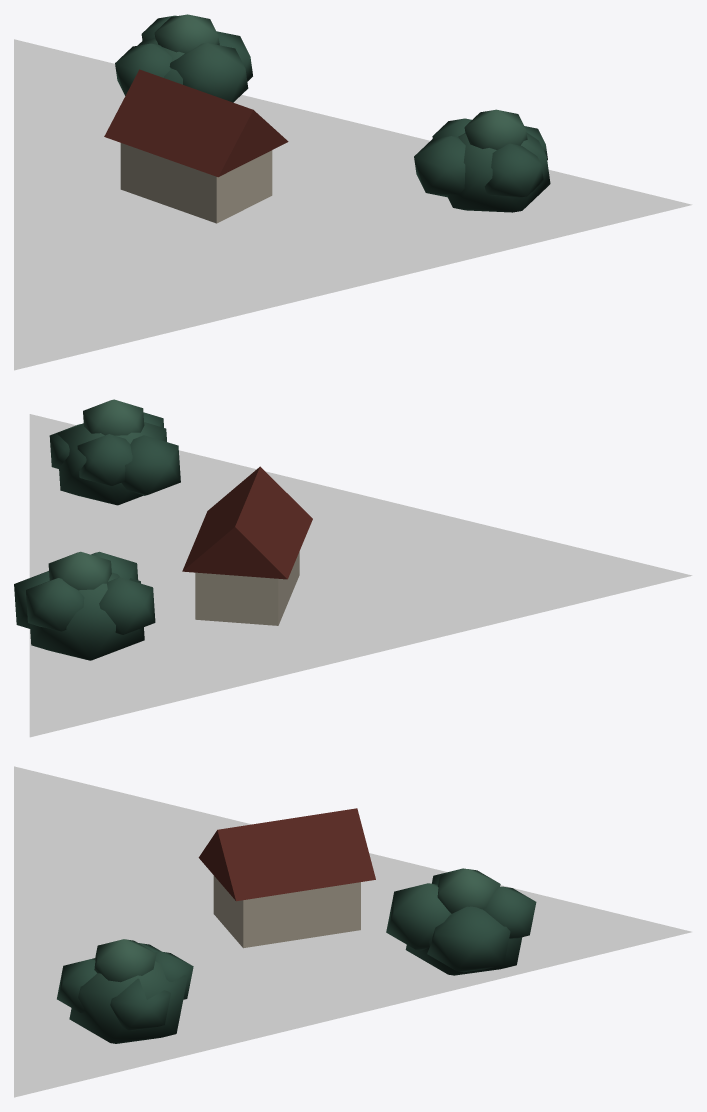
Rendered from MODULE_FULL_HOUSE.fbx.
3 renders of one model, top to bottom at view 1: azimuth 30°, elevation 25°; view 2: azimuth 150°, elevation 25°; view 3: azimuth 270°, elevation 25°, orthographic. The views are drawn at different scales.
Visible parts, largest first — view 1: MODULE_FULL_HOUSE__export, MODULE_FULL_HOUSE_DECOR__export; view 2: MODULE_FULL_HOUSE__export, MODULE_FULL_HOUSE_DECOR__export; view 3: MODULE_FULL_HOUSE__export, MODULE_FULL_HOUSE_DECOR__export.
Boxes of the visible parts, x1,y1,x2,y2 form: MODULE_FULL_HOUSE__export: (14,39,692,370); MODULE_FULL_HOUSE_DECOR__export: (104,14,550,223); MODULE_FULL_HOUSE__export: (29,414,692,737); MODULE_FULL_HOUSE_DECOR__export: (14,399,312,660); MODULE_FULL_HOUSE__export: (14,766,691,1097); MODULE_FULL_HOUSE_DECOR__export: (57,808,536,1043).
Bounding box in the file's own units: 100 × 17.13 × 86.6.
